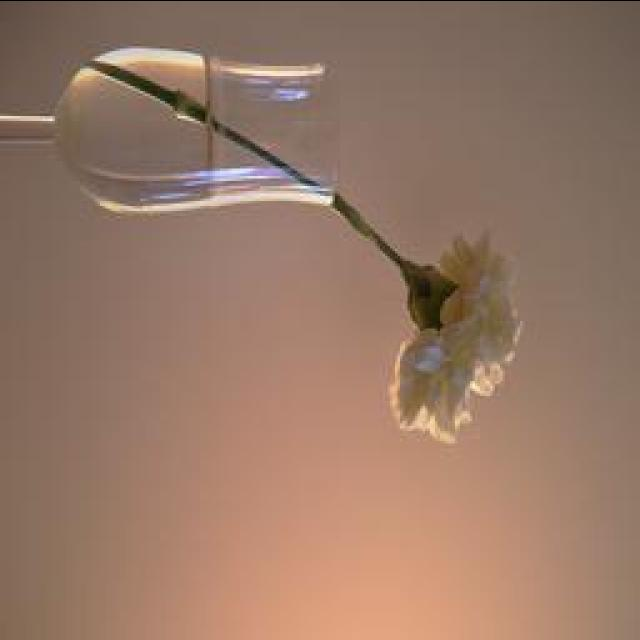carnation: (363, 205, 538, 451)
